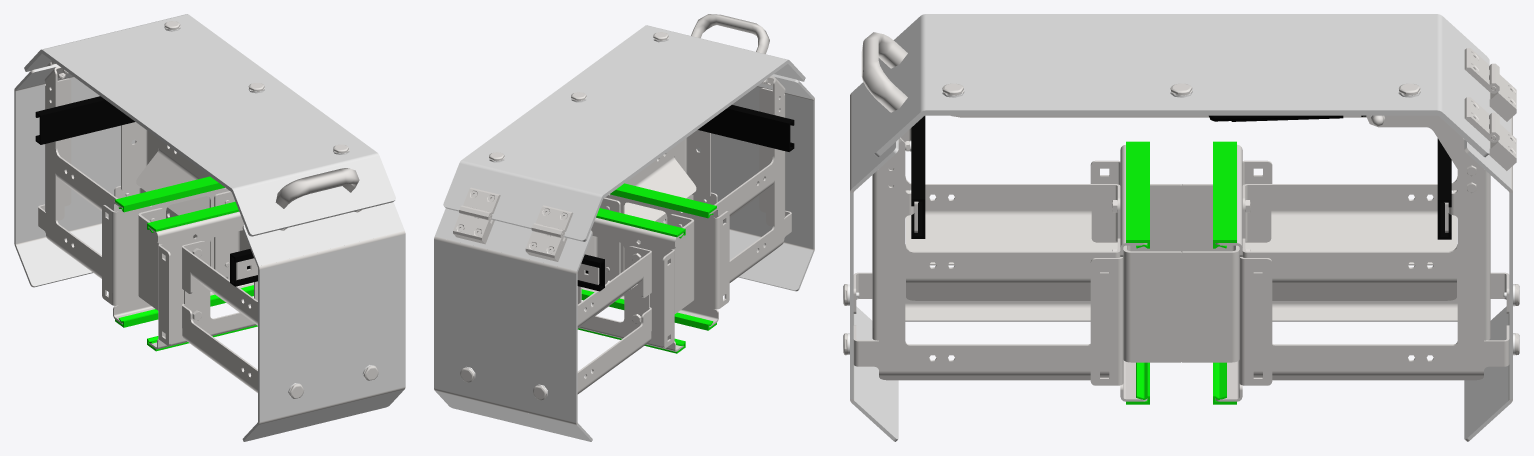
The picture shows the model from 3 angles, left to right: view 1: azimuth 30°, elevation 25°; view 2: azimuth 150°, elevation 25°; view 3: azimuth 270°, elevation 25°; orthographic projection. The views are drawn at different scales.
Parts seen in each view (by area): view 1: glass, base; view 2: glass, base; view 3: base, glass.
Boxes of the visible parts, box(x1,y1,x2,y2) form: glass: box(14, 14, 405, 441); base: box(14, 21, 405, 424); glass: box(434, 25, 814, 441); base: box(434, 14, 814, 441); base: box(843, 32, 1519, 441); glass: box(850, 14, 1512, 441).
Size of the model in its own units: 0.25 by 0.4103 by 0.726.
Materials: 1 (1 with a texture image).
